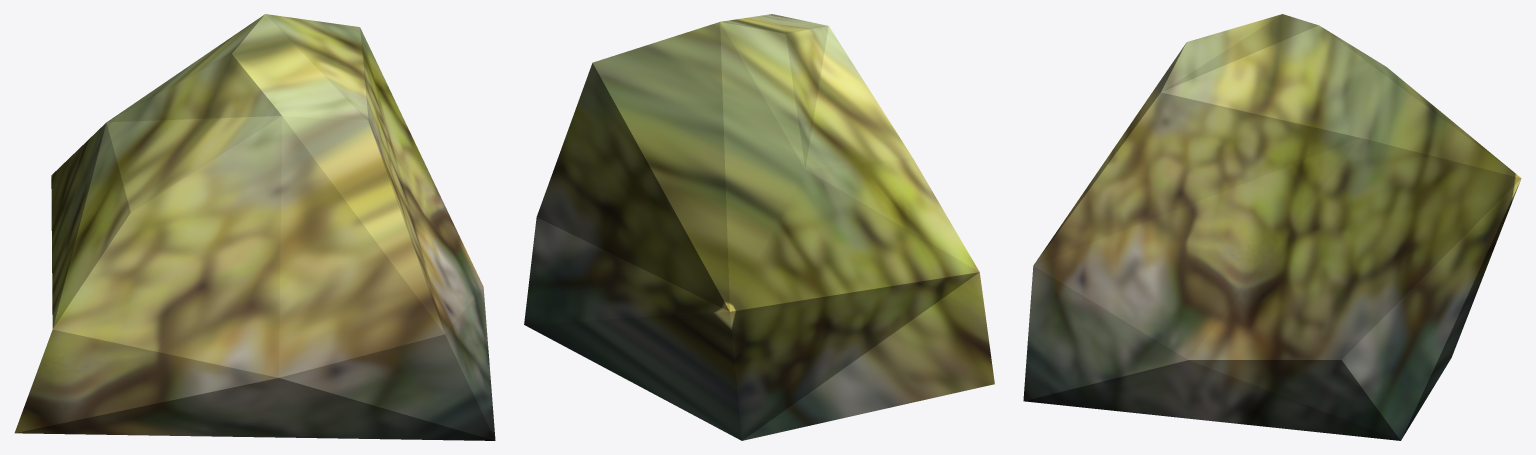
Rendered from Forest_1_Rock_1.gltf.
3 renders of one model, left to right at view 1: azimuth 30°, elevation 25°; view 2: azimuth 150°, elevation 25°; view 3: azimuth 270°, elevation 25°, orthographic. The views are drawn at different scales.
Visible parts, largest first — view 1: Forest_1_Rock_1; view 2: Forest_1_Rock_1; view 3: Forest_1_Rock_1.
Part boxes in pixels (left/top/right/bottom): Forest_1_Rock_1: left=14, top=14, right=495, bottom=440; Forest_1_Rock_1: left=524, top=14, right=994, bottom=440; Forest_1_Rock_1: left=1023, top=14, right=1521, bottom=440.
Bounding box in the file's own units: 6.39 × 5.05 × 6.06.
Materials: 1 (1 with a texture image).
